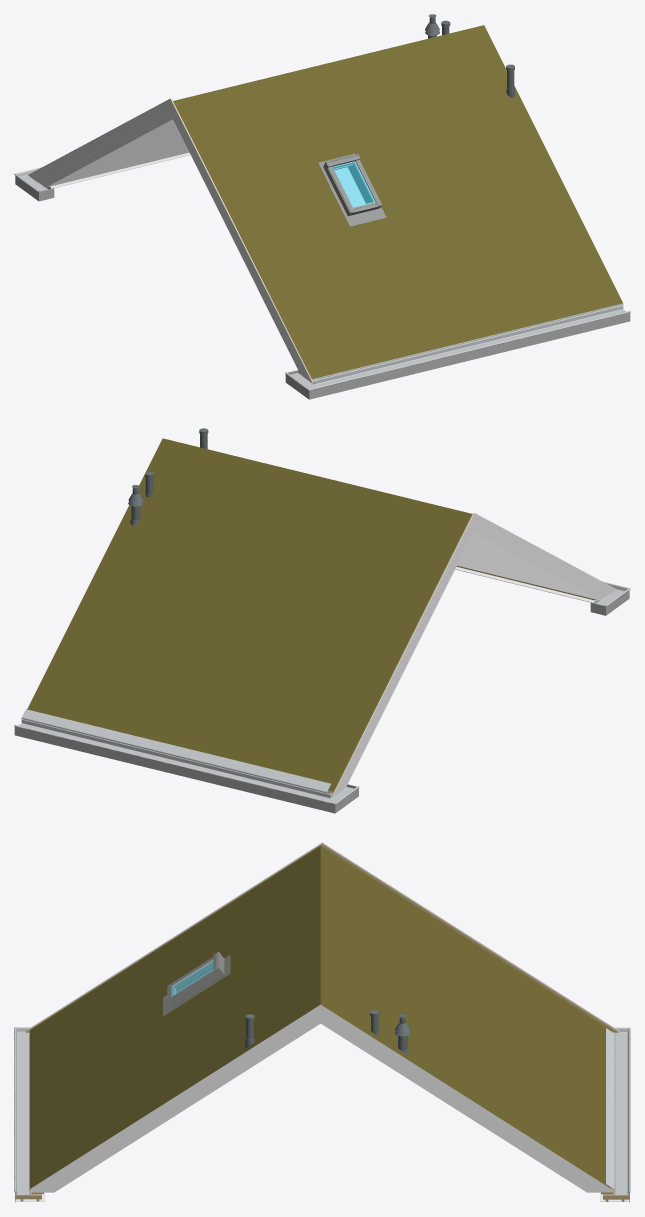
The picture shows the model from 3 angles, top to bottom: view 1: azimuth 30°, elevation 25°; view 2: azimuth 150°, elevation 25°; view 3: azimuth 270°, elevation 25°; orthographic projection. The views are drawn at different scales.
Parts seen in each view (by area): view 1: [3332793]27_Dakelement_276_11_265, [3332817]47_GM_goot_hoek, [3332811]47_GM_bakgoot_basis_met 45gr hoek, [3332829]GGL Integra size 610x1010 (CK02), [3332801]47_boeideel_zijkant, [3332802]47_boeideel_zijkant; view 2: [3332793]27_Dakelement_276_11_265, [3332824]47_GM_goot_hoek, [3332818]47_GM_bakgoot_basis_met 45gr hoek, [3332802]47_boeideel_zijkant, [3332801]47_boeideel_zijkant; view 3: [3332793]27_Dakelement_276_11_265, [3332824]47_GM_goot_hoek, [3332817]47_GM_goot_hoek, [3332829]GGL Integra size 610x1010 (CK02), [3332804]47_boeideel_zijkant_latten, [3332801]47_boeideel_zijkant, [3332802]47_boeideel_zijkant, [3332803]47_boeideel_zijkant_latten.
Part boxes in pixels (bbox=[...]): [3332793]27_Dakelement_276_11_265: bbox=[39, 25, 623, 382]; [3332817]47_GM_goot_hoek: bbox=[285, 304, 630, 390]; [3332811]47_GM_bakgoot_basis_met 45gr hoek: bbox=[285, 312, 630, 399]; [3332829]GGL Integra size 610x1010 (CK02): bbox=[318, 153, 386, 226]; [3332801]47_boeideel_zijkant: bbox=[170, 98, 313, 383]; [3332802]47_boeideel_zijkant: bbox=[28, 99, 170, 182]; [3332793]27_Dakelement_276_11_265: bbox=[27, 438, 605, 794]; [3332824]47_GM_goot_hoek: bbox=[14, 709, 359, 804]; [3332818]47_GM_bakgoot_basis_met 45gr hoek: bbox=[14, 726, 358, 813]; [3332802]47_boeideel_zijkant: bbox=[331, 513, 474, 797]; [3332801]47_boeideel_zijkant: bbox=[474, 513, 616, 596]; [3332793]27_Dakelement_276_11_265: bbox=[30, 846, 611, 1192]; [3332824]47_GM_goot_hoek: bbox=[605, 1027, 630, 1195]; [3332817]47_GM_goot_hoek: bbox=[14, 1027, 38, 1195]; [3332829]GGL Integra size 610x1010 (CK02): bbox=[163, 951, 230, 1015]; [3332804]47_boeideel_zijkant_latten: bbox=[322, 844, 619, 1032]; [3332801]47_boeideel_zijkant: bbox=[24, 842, 322, 1031]; [3332802]47_boeideel_zijkant: bbox=[322, 843, 620, 1031]; [3332803]47_boeideel_zijkant_latten: bbox=[25, 844, 322, 1032].
Bounding box in the file's own units: 6.24 × 3.54 × 9.9.
